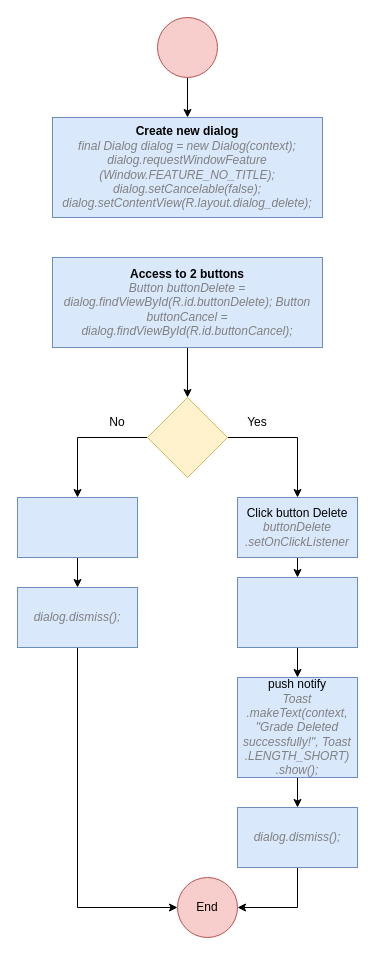
Some shapes in this 375 by 955 pixel diagram are drawn without their labels. Here are the shapes that lost their labels. From the top down, the centre of each, then its label:
the point at 187,47: Start
the point at 187,437: Confirm?
the point at 77,527: Click button Cancel buttonCancel .setOnClickListener
the point at 297,612: get ID and remove: databaseReference .child("grades") .child(id) .removeValue();
